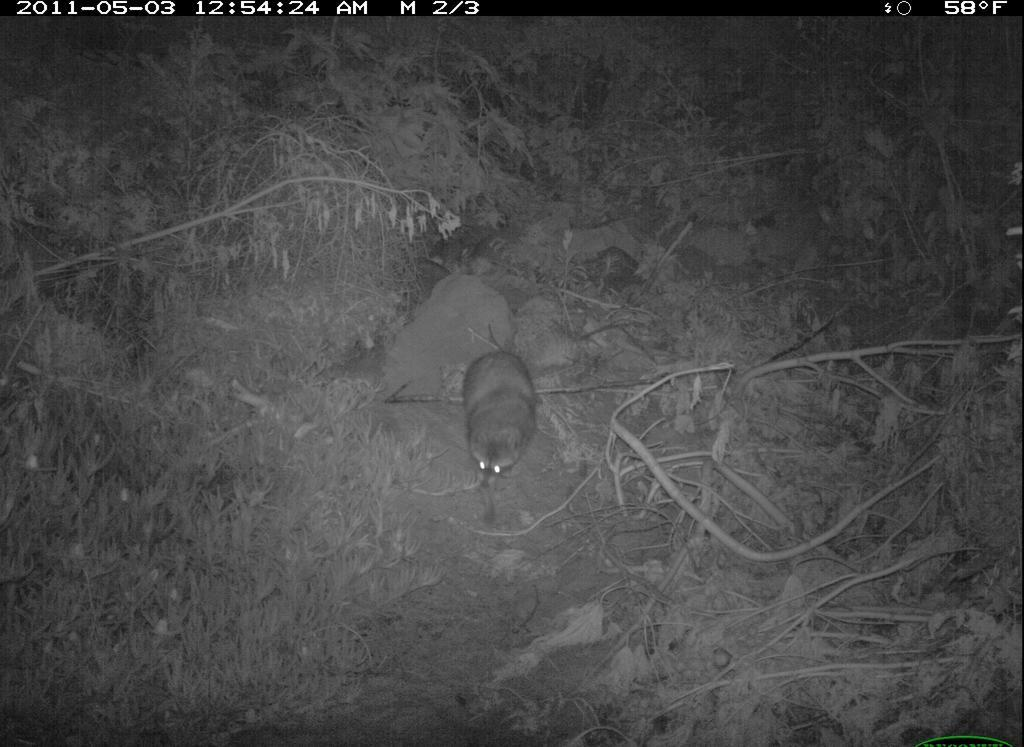raccoon: (455, 340, 550, 500)
